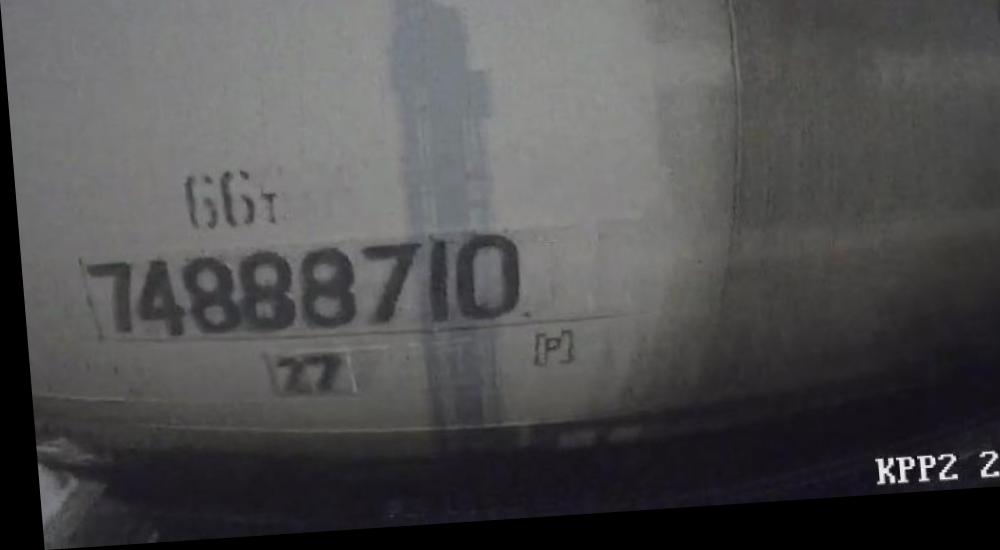Wagon-number: (77, 228, 523, 357)
